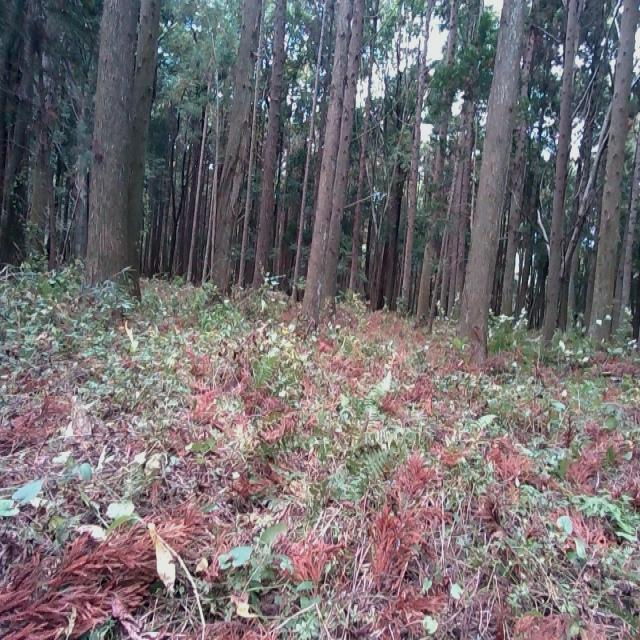tree: (460, 0, 529, 371), (78, 0, 160, 308), (305, 0, 366, 319), (590, 0, 640, 356), (202, 0, 260, 286), (543, 0, 580, 355)
